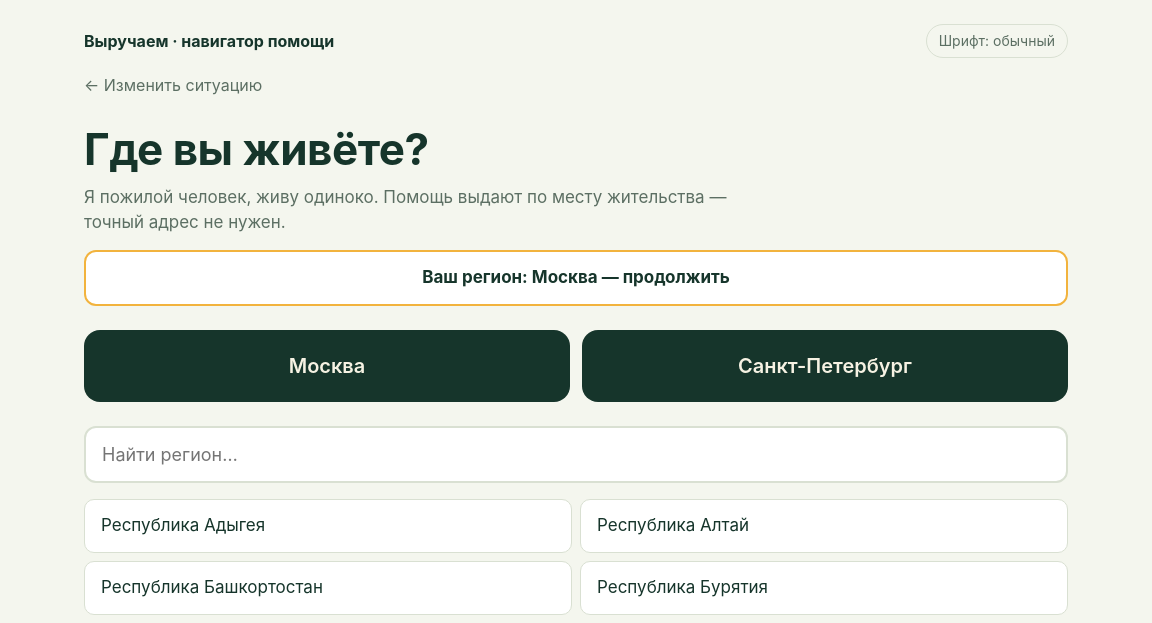
приложение › быстрый выбор сохранённого региона ведёт к результату
Click the button "Ваш регион: Москва — продолжить" at (576, 278), box [84, 250, 1068, 306]
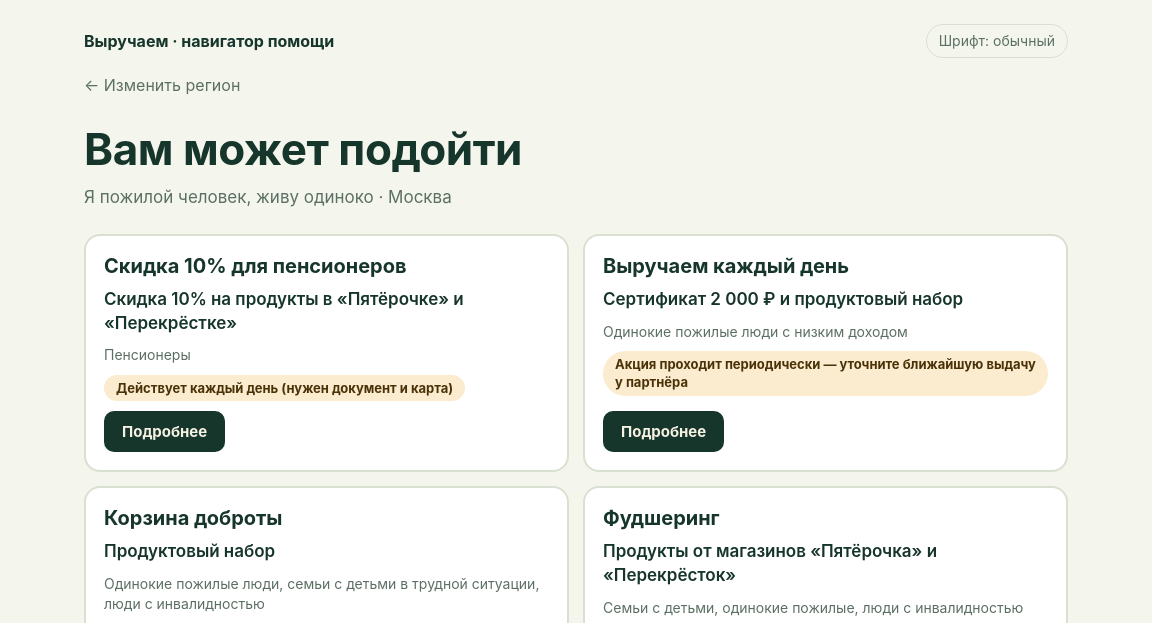
Check: the heading "Вам может подойти" is shown, box [84, 122, 522, 176]
